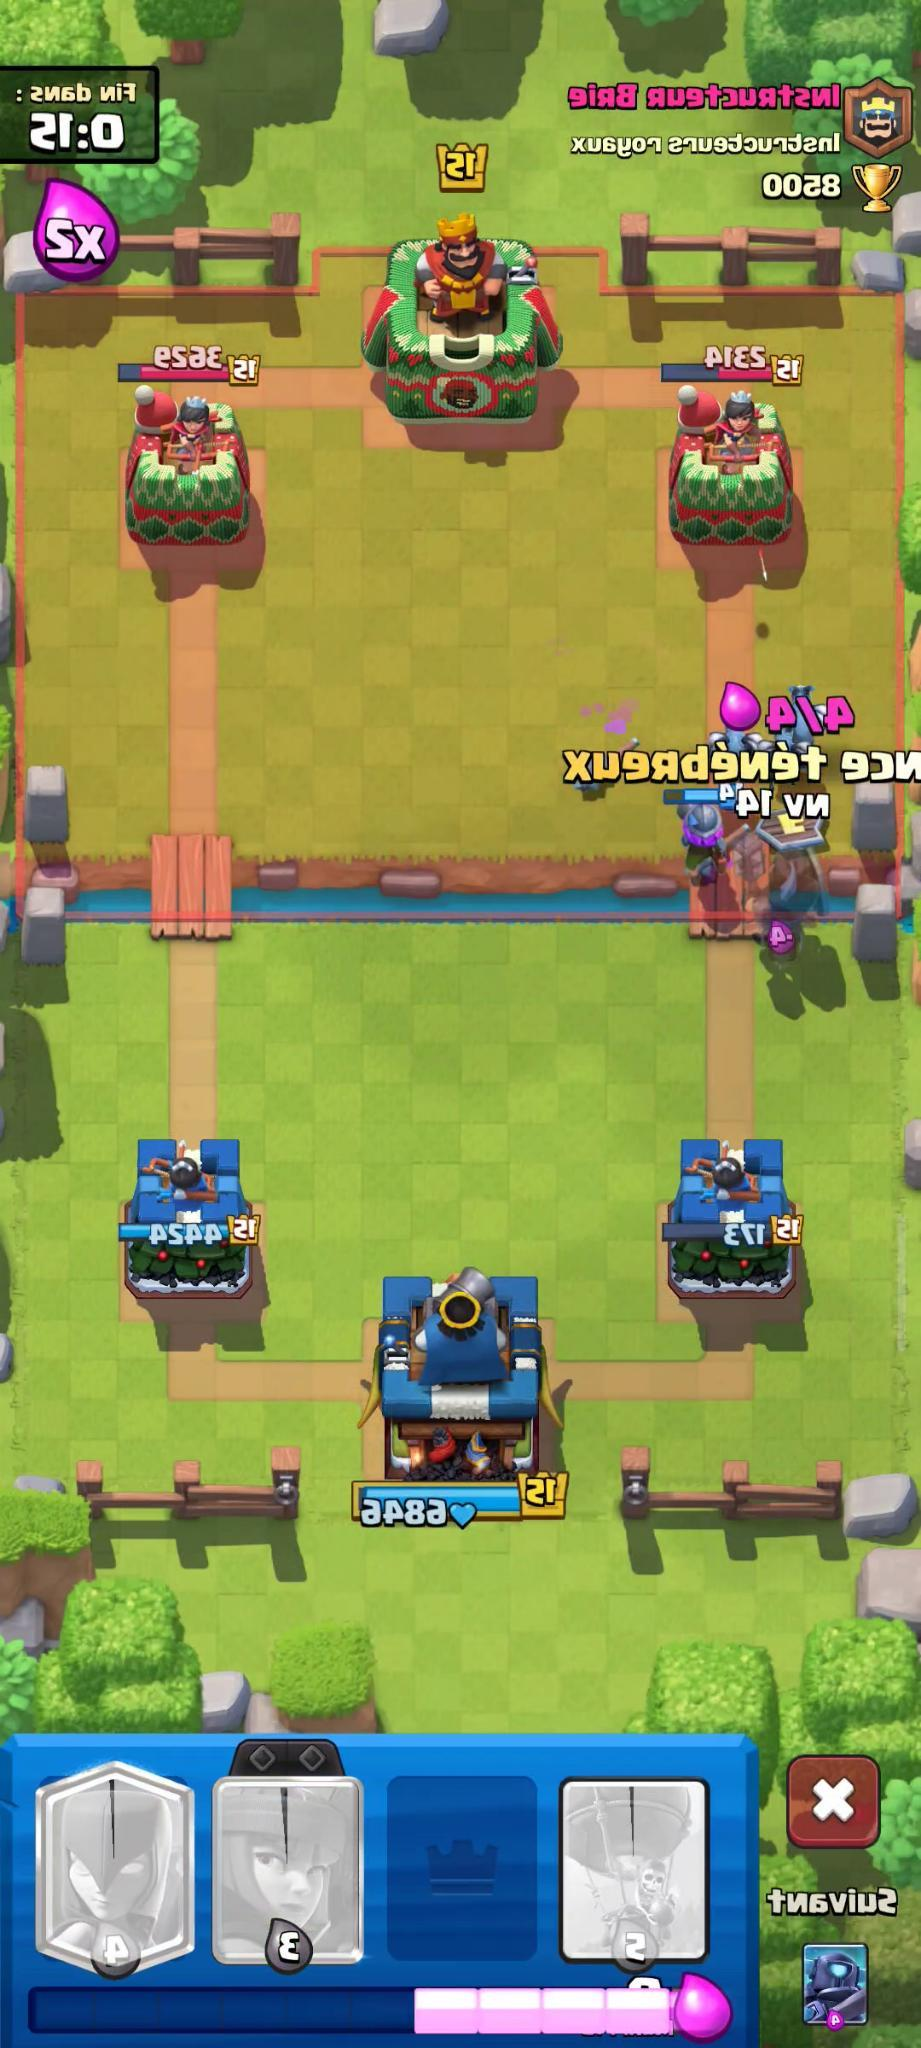player_musketeer: (658, 795, 732, 872)
